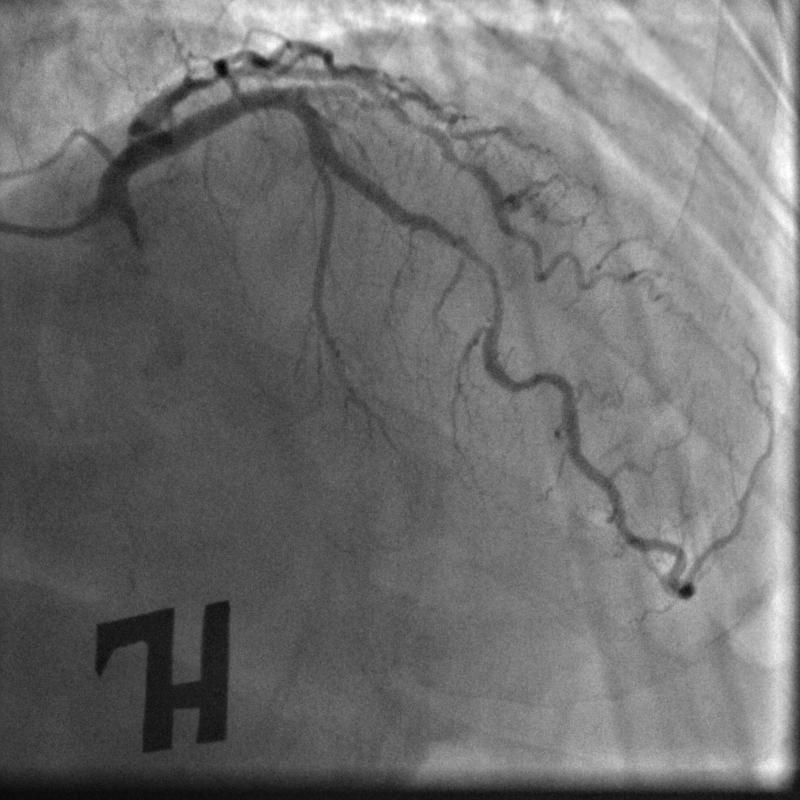Stenosis: (462, 241, 503, 325)
